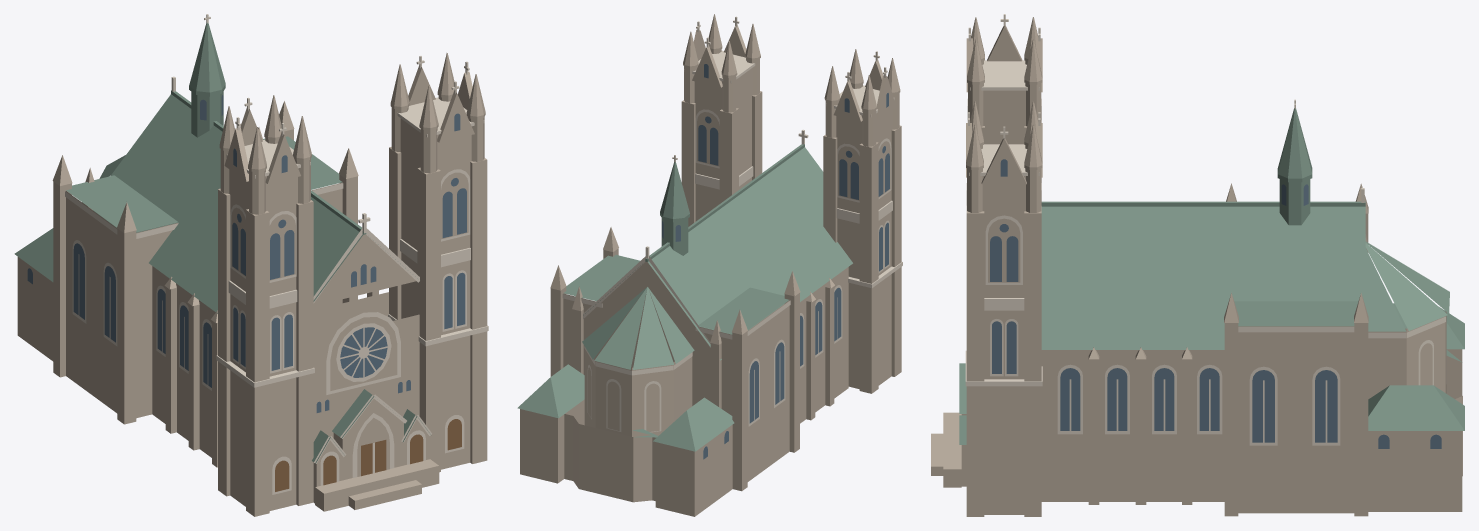
Rendered from slc-cathedral-of-the-madeleine.glb.
The picture shows the model from 3 angles, left to right: view 1: azimuth 30°, elevation 25°; view 2: azimuth 150°, elevation 25°; view 3: azimuth 270°, elevation 25°; orthographic projection. The views are drawn at different scales.
Parts seen in each view (by area): view 1: Cathedral of the Madeleine; view 2: Cathedral of the Madeleine; view 3: Cathedral of the Madeleine.
Boxes of the visible parts, box(x1,y1,x2,y2) form: Cathedral of the Madeleine: box(14, 14, 488, 516); Cathedral of the Madeleine: box(517, 14, 902, 516); Cathedral of the Madeleine: box(931, 14, 1464, 516).
Bounding box in the file's own units: 31.69 × 49.3 × 61.3.
